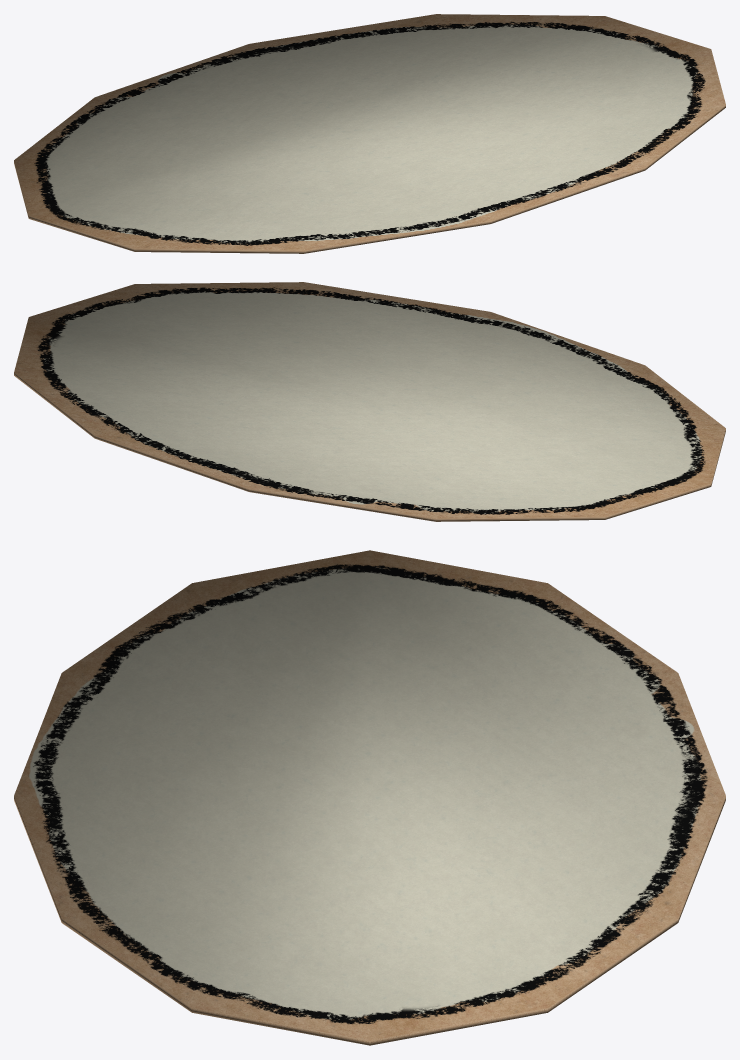
Rendered from 20s_Rug.fbx.
3 renders of one model, top to bottom at view 1: azimuth 30°, elevation 25°; view 2: azimuth 150°, elevation 25°; view 3: azimuth 270°, elevation 25°, orthographic. The views are drawn at different scales.
Parts seen in each view (by area): view 1: 20s_Rug; view 2: 20s_Rug; view 3: 20s_Rug.
Part boxes in pixels (bbox=[...]): 20s_Rug: bbox=[14, 14, 725, 253]; 20s_Rug: bbox=[14, 282, 725, 521]; 20s_Rug: bbox=[14, 550, 725, 1045].
Bounding box in the file's own units: 1492 × 6.81 × 915.
Materials: 1 (1 with a texture image).
